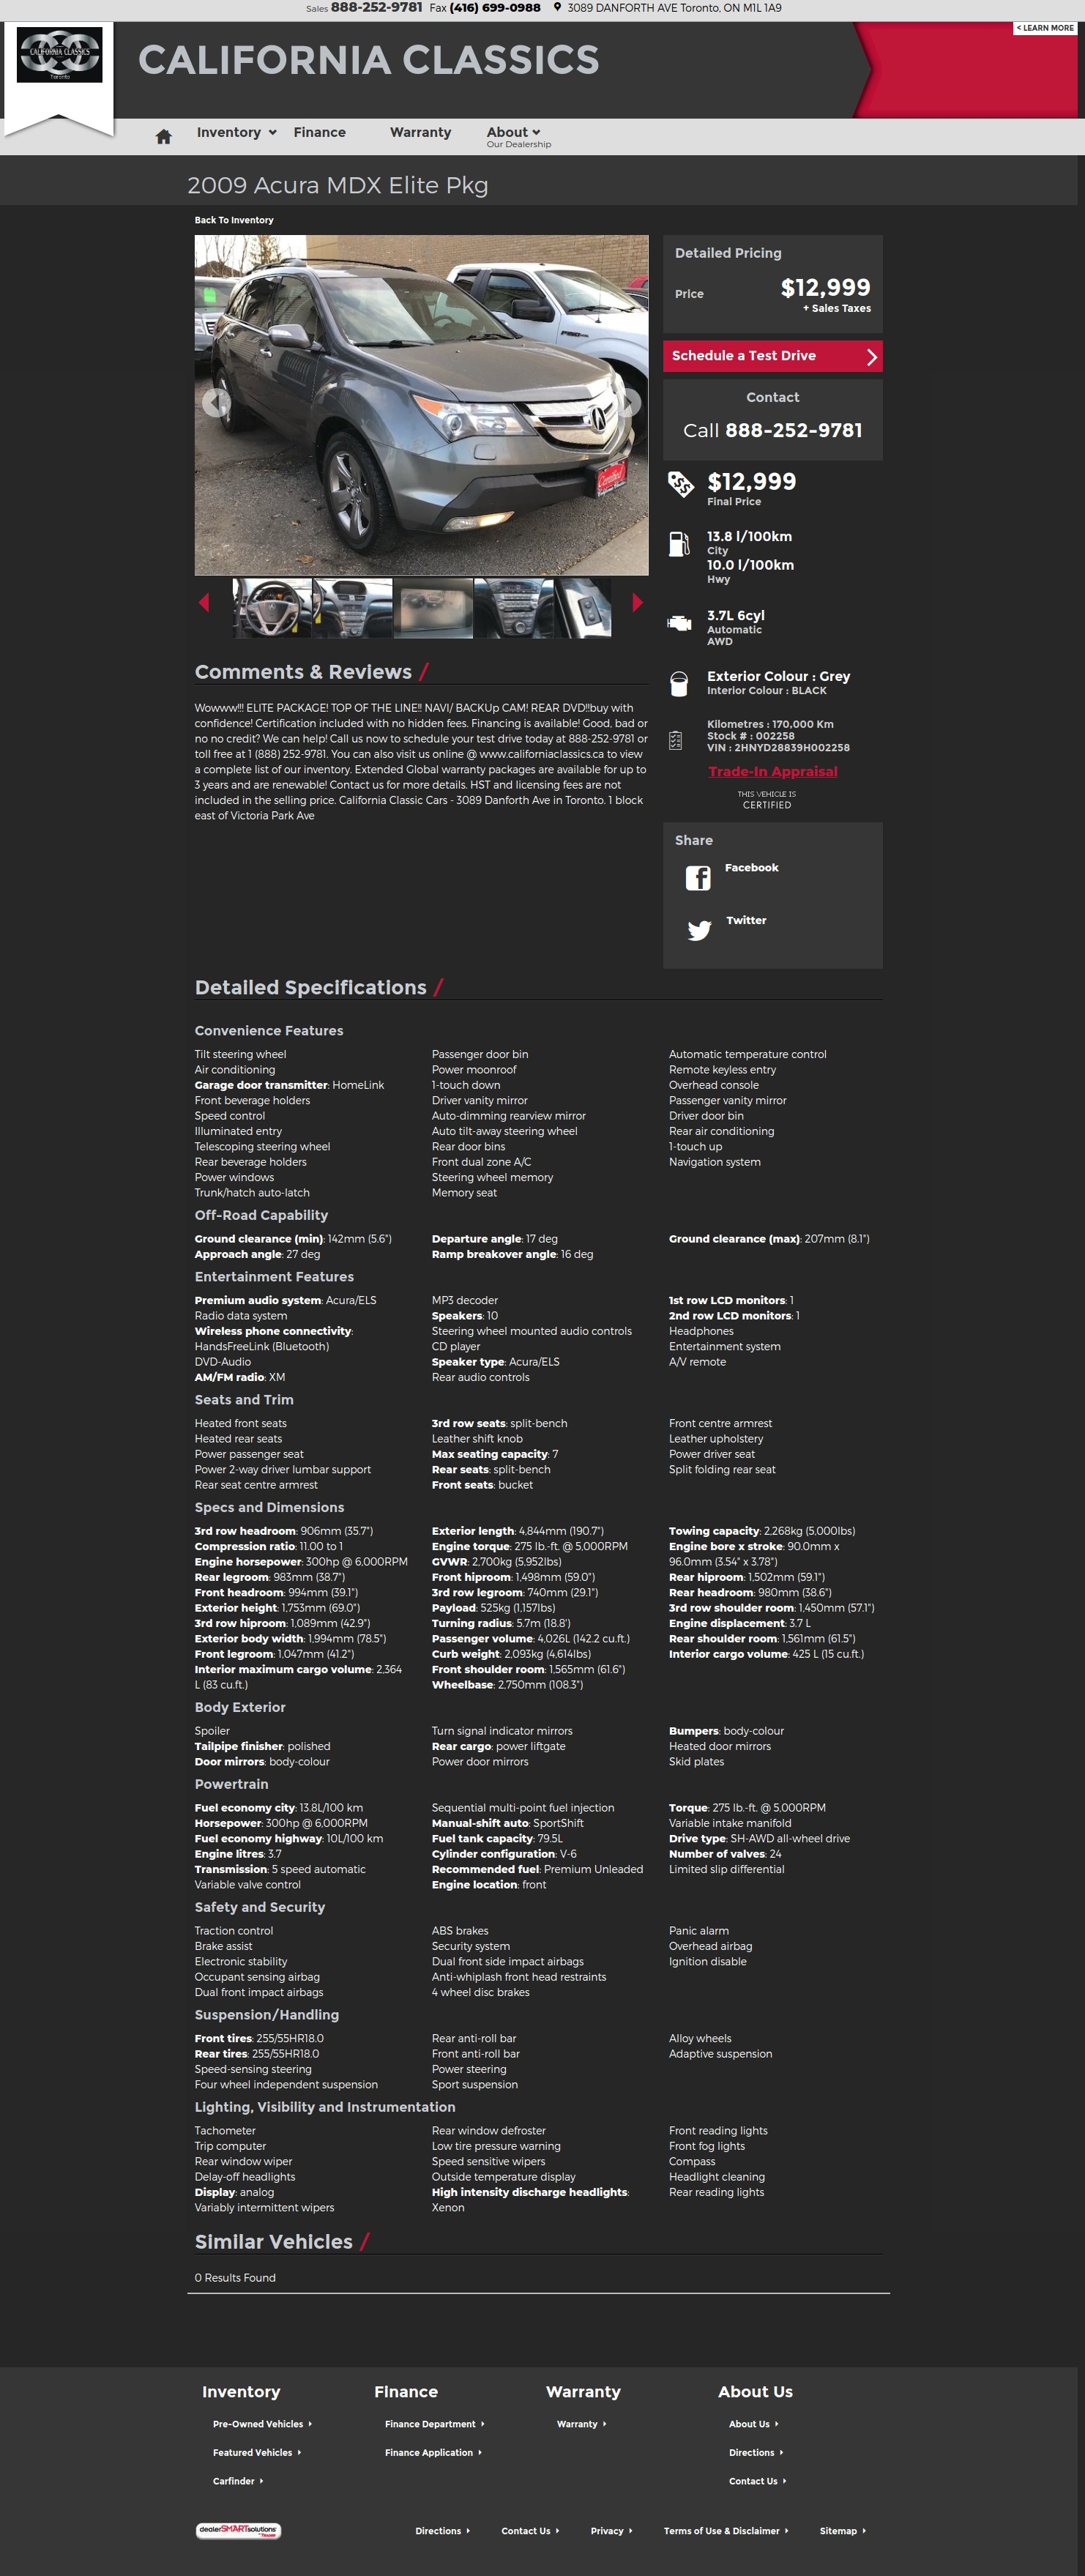car: (632, 591, 645, 614)
